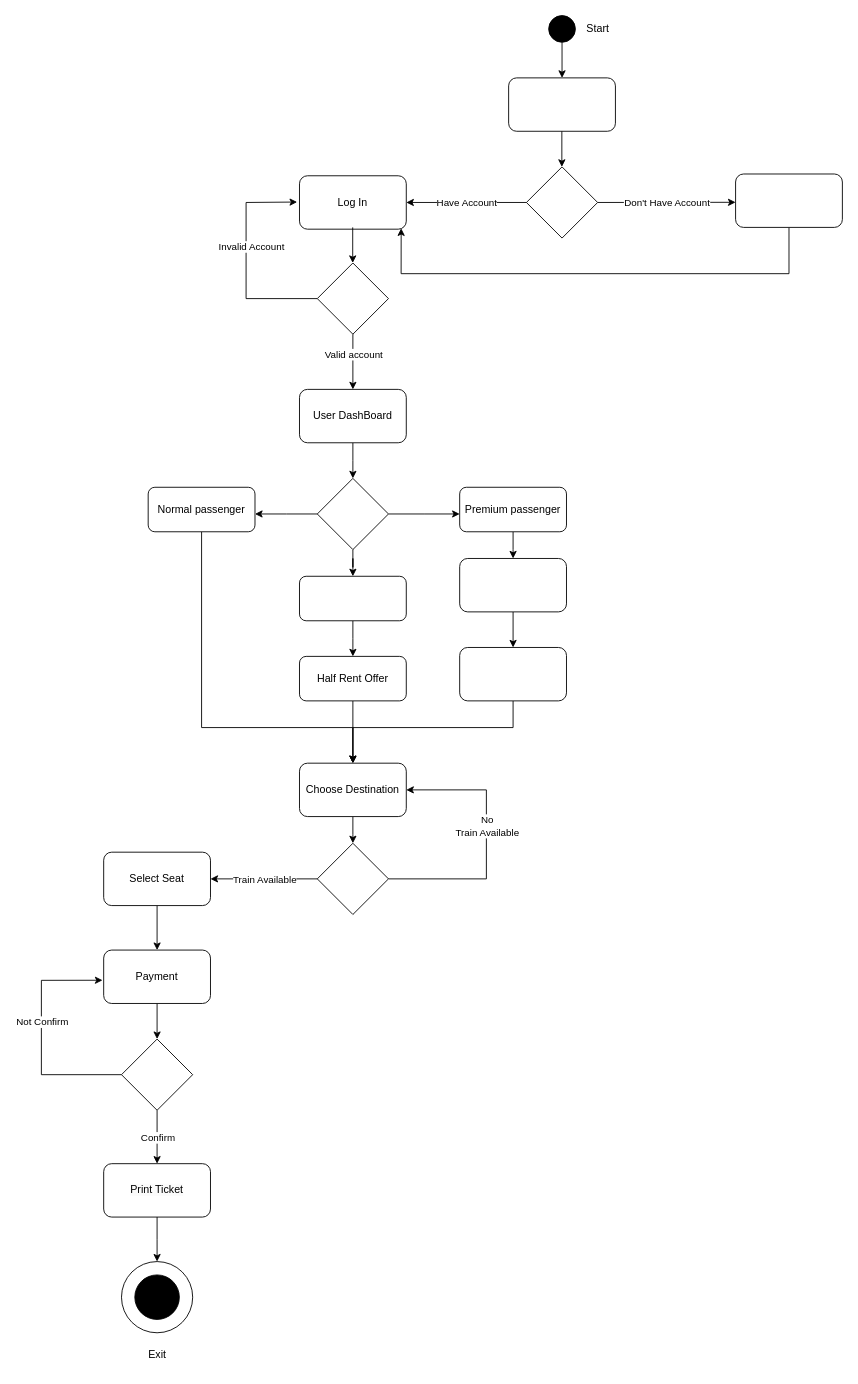
The diagram is 858 pixels wide and 1384 high, and some of its shapes have lost their labels. The centre of each missing label's shape, as x and y in pixels:
Available Offer: [512,585]
HomePage: [561,104]
Select Offer: [512,674]
Sign Up: [788,200]
Student Passenger: [352,598]
